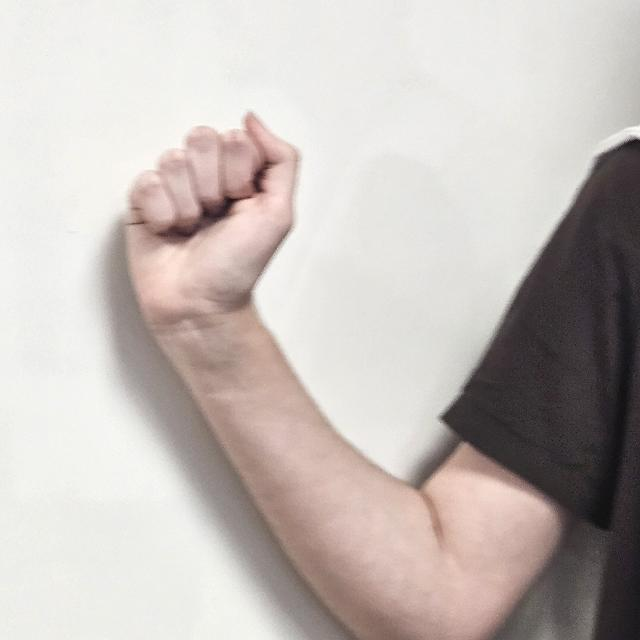Quadro: (122, 112, 304, 318)
